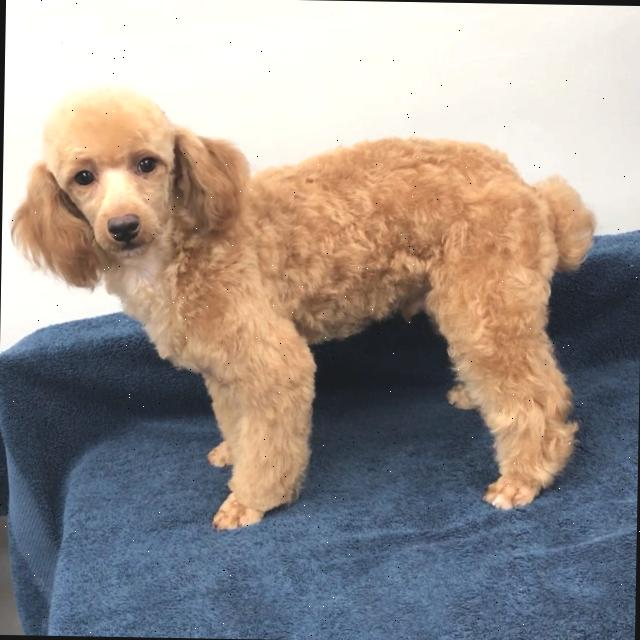Poodle_dog: (5, 83, 255, 300)
